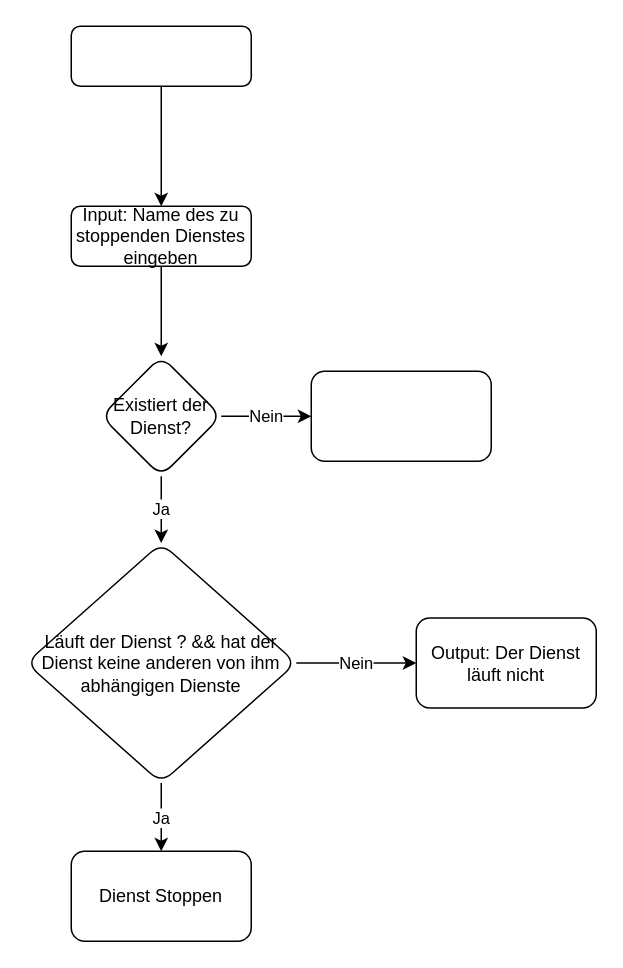
Image size: 623x968. Some labels were removed from this diagram. The shapes that lost their labels are listed below. From the top down, each one's box as (x1, y1, x2, y2) in pixels, then its label:
(70, 25, 251, 86): Start
(310, 370, 491, 461): Output: Dienst existiert nicht
